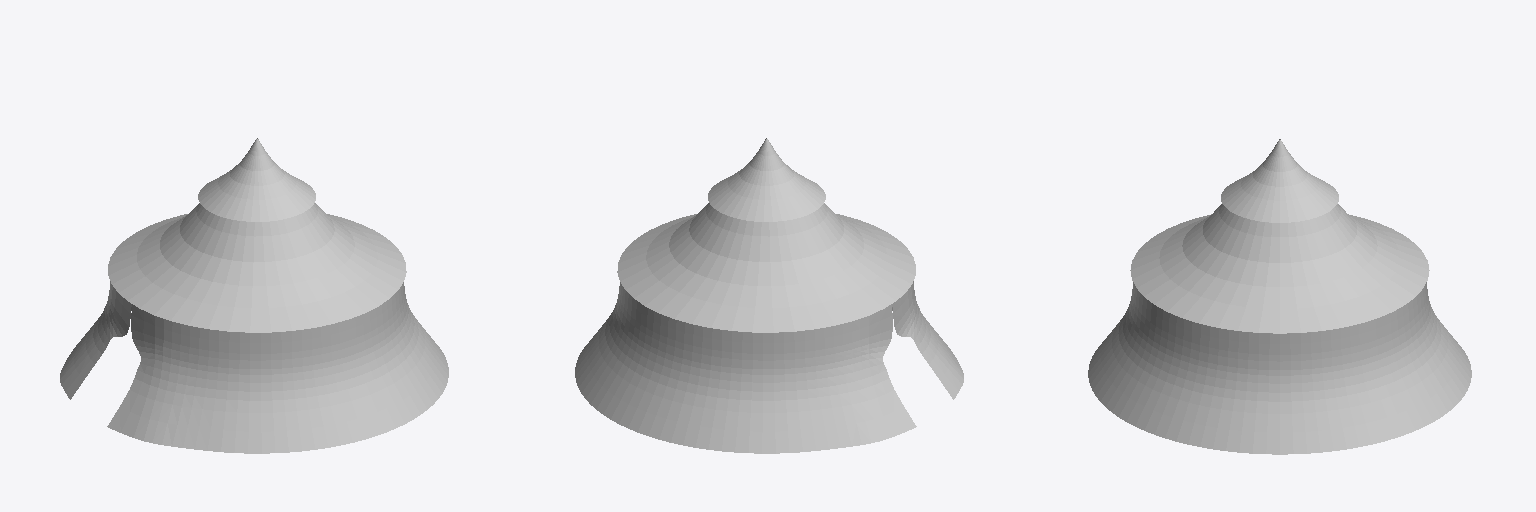
The model's file is tent.obj.
3 views of the same model, side by side, from view 1: azimuth 30°, elevation 25°; view 2: azimuth 150°, elevation 25°; view 3: azimuth 270°, elevation 25° (orthographic).
Visible parts, largest first — view 1: polySurface2_Mesh, polySurface1_Mesh, pCylinder2_Mesh; view 2: polySurface2_Mesh, polySurface1_Mesh, pCylinder2_Mesh; view 3: polySurface2_Mesh, polySurface1_Mesh, pCylinder2_Mesh.
Part boxes in pixels (x1,y1,x2,y2): polySurface2_Mesh: (60,281,448,453); polySurface1_Mesh: (108,203,406,332); pCylinder2_Mesh: (198,138,315,221); polySurface2_Mesh: (575,281,963,453); polySurface1_Mesh: (617,203,915,332); pCylinder2_Mesh: (708,138,825,221); polySurface2_Mesh: (1088,282,1471,454); polySurface1_Mesh: (1130,204,1429,333); pCylinder2_Mesh: (1221,139,1338,222).
Size of the model in its own units: 38.51 by 25.72 by 38.23.